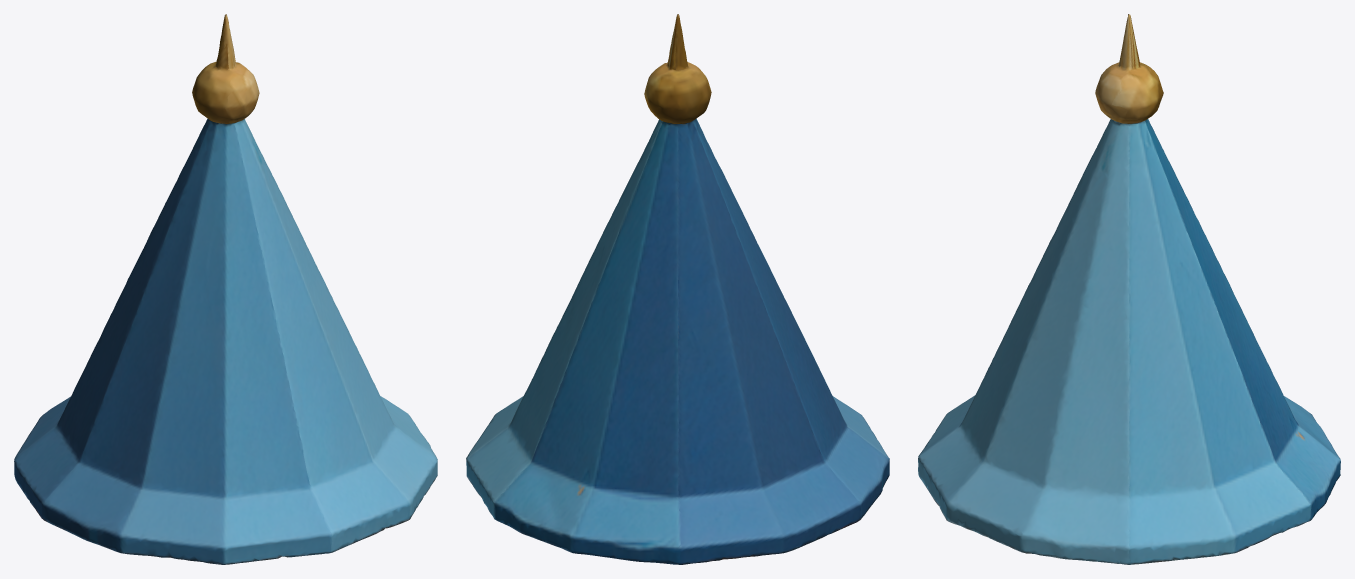
The model's file is 롯데_타워지붕.glb.
3 renders of one model, left to right at view 1: azimuth 30°, elevation 25°; view 2: azimuth 150°, elevation 25°; view 3: azimuth 270°, elevation 25°, orthographic.
Parts seen in each view (by area): view 1: texture_mapping; view 2: texture_mapping; view 3: texture_mapping.
Boxes of the visible parts, x1=… form: texture_mapping: x1=14, y1=14, x2=437, y2=564; texture_mapping: x1=466, y1=14, x2=889, y2=564; texture_mapping: x1=918, y1=14, x2=1340, y2=564.
Size of the model in its own units: 0.831 by 1 by 0.832.
Materials: 1 (1 with a texture image).
